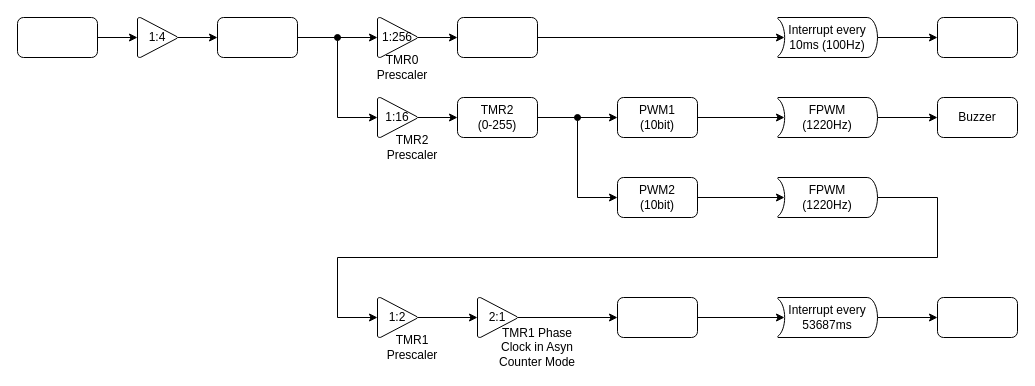
This 1035x386 diagram has some shape labels left out. Each missing label, with the centre of its shape:
FCPU (5MHz): pixel 257 37
FOSC (20MHz): pixel 57 37
SoftPWM: pixel 977 37
Tick: pixel 977 317
TMR0 (61-255): pixel 497 37
TMR1 (0-65535): pixel 657 317
